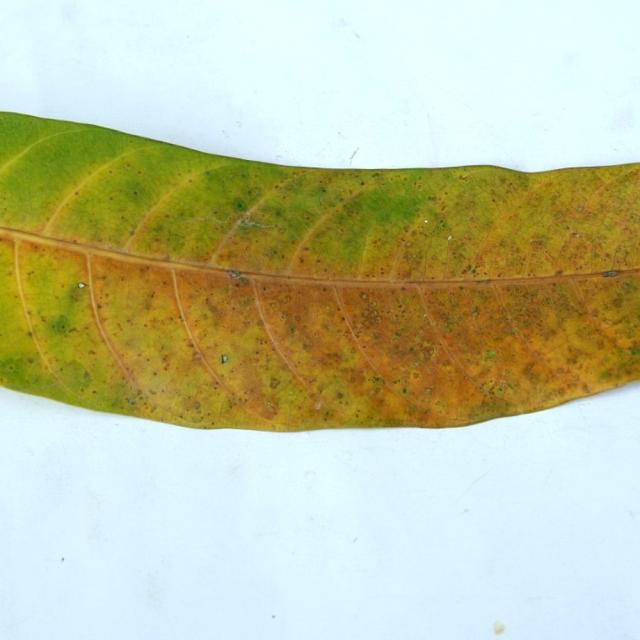Mango: (0, 113, 639, 431)
Powdery_Mildew: (515, 299, 571, 349), (409, 212, 453, 257), (465, 177, 512, 206), (1, 354, 36, 385), (474, 394, 514, 416), (618, 222, 640, 261), (570, 240, 593, 266), (48, 314, 74, 336), (225, 197, 259, 213), (598, 364, 628, 381), (613, 326, 634, 349), (479, 377, 504, 396), (69, 282, 88, 303), (204, 296, 221, 315), (260, 402, 278, 417), (419, 347, 434, 361), (622, 281, 636, 294), (524, 361, 537, 375), (269, 377, 281, 389), (484, 349, 497, 359), (192, 351, 203, 362), (81, 370, 91, 382), (144, 299, 153, 310), (421, 341, 432, 350), (478, 277, 492, 284), (335, 391, 344, 400), (370, 309, 379, 318), (161, 254, 171, 262), (239, 276, 249, 284), (371, 376, 380, 384), (471, 306, 479, 315), (129, 396, 139, 403), (221, 354, 228, 364), (283, 295, 291, 303), (193, 401, 201, 409), (576, 205, 584, 213), (229, 271, 238, 278), (427, 196, 437, 202), (26, 330, 34, 337), (289, 326, 296, 334), (469, 266, 476, 274), (371, 172, 380, 178), (545, 298, 554, 304), (634, 347, 640, 356), (510, 329, 517, 336), (394, 331, 401, 338), (127, 229, 134, 236), (412, 372, 419, 379), (294, 314, 301, 321), (188, 341, 195, 348), (555, 269, 563, 275), (320, 187, 327, 193), (278, 228, 285, 234), (401, 387, 407, 393), (406, 241, 412, 247), (303, 246, 310, 251), (425, 388, 432, 393), (96, 303, 102, 308), (400, 286, 406, 291), (362, 293, 367, 299), (360, 181, 365, 186), (340, 316, 345, 321), (316, 258, 321, 263), (229, 174, 234, 179), (72, 239, 78, 243), (322, 287, 327, 291), (75, 191, 79, 196), (125, 163, 130, 167), (263, 286, 267, 291), (133, 191, 137, 195), (109, 197, 113, 201)
